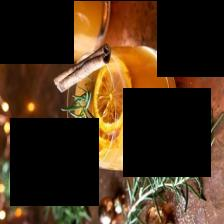orange: (68, 45, 178, 169), (12, 0, 110, 60)
